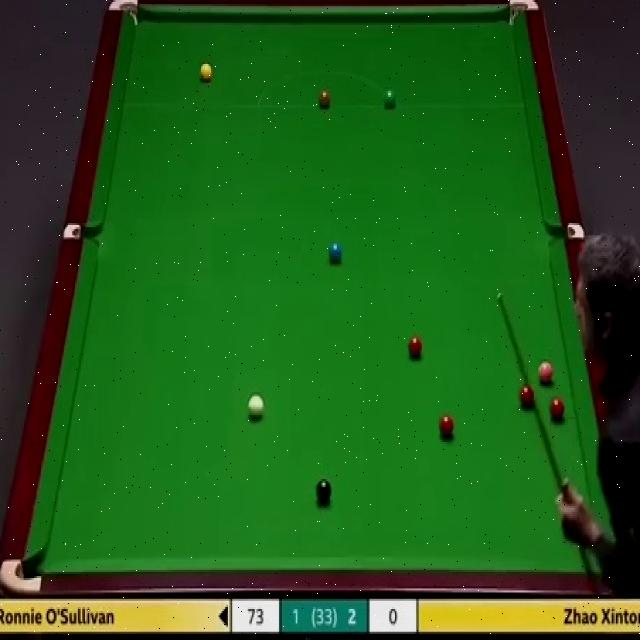black-ball: (316, 477, 332, 505)
blue-ball: (329, 242, 342, 265)
brown-ball: (319, 91, 331, 110)
green-ball: (384, 90, 396, 110)
pink-ball: (538, 360, 555, 386)
red-ball: (437, 414, 455, 440), (408, 333, 424, 359), (548, 400, 566, 420), (519, 386, 535, 408)
white-ball: (246, 393, 265, 421)
yellow-ball: (199, 64, 214, 86)
